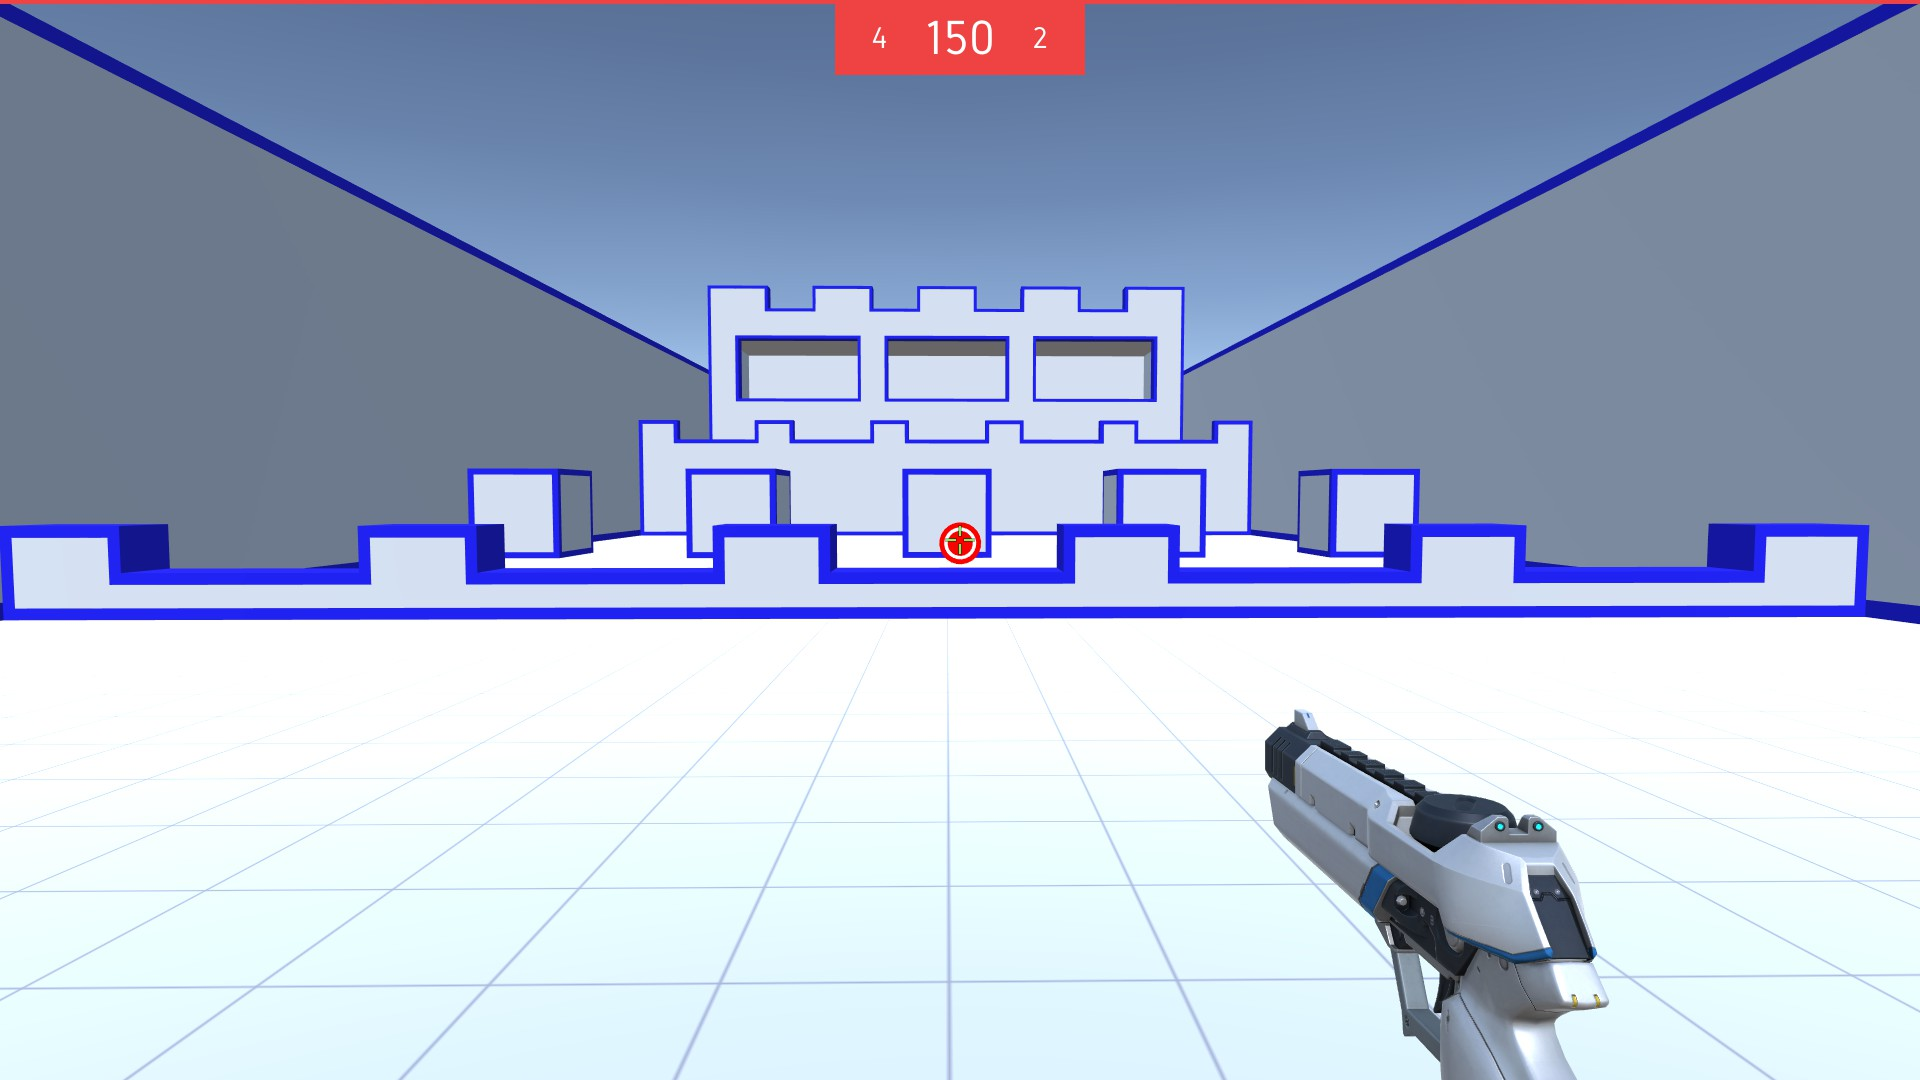target: (938, 522, 981, 564)
